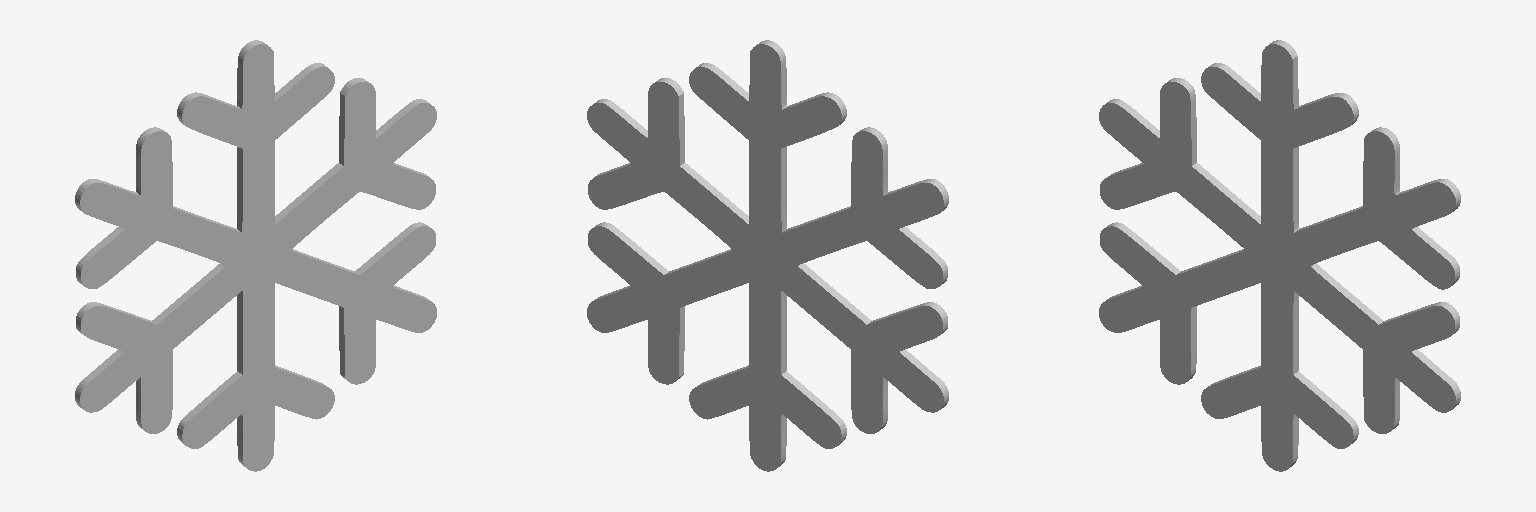
Rendered from tinker.obj.
3 renders of one model, left to right at view 1: azimuth 30°, elevation 25°; view 2: azimuth 150°, elevation 25°; view 3: azimuth 330°, elevation 25°, orthographic.
Visible parts, largest first — view 1: obj_0; view 2: obj_0; view 3: obj_0.
Boxes of the visible parts, box(x1,y1,x2,y2) form: obj_0: box(75, 40, 436, 471); obj_0: box(587, 40, 948, 471); obj_0: box(1099, 40, 1460, 471).
Size of the model in its own units: 75 by 85.59 by 1.91.